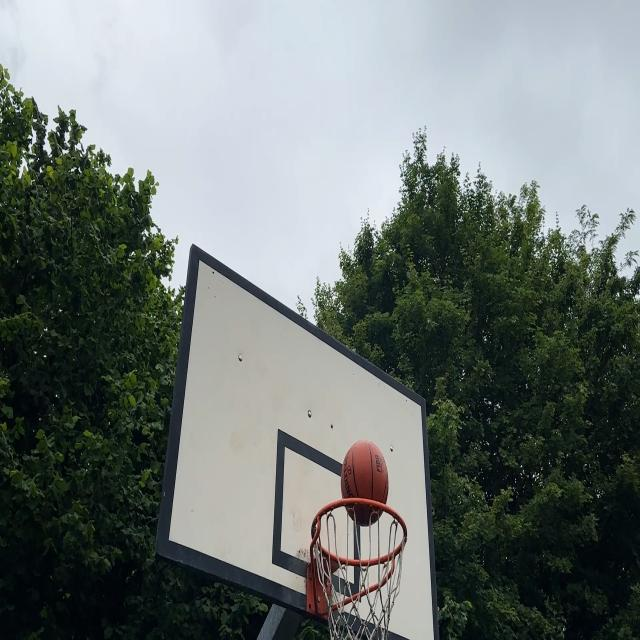rebound_hit: (341, 439, 389, 528)
